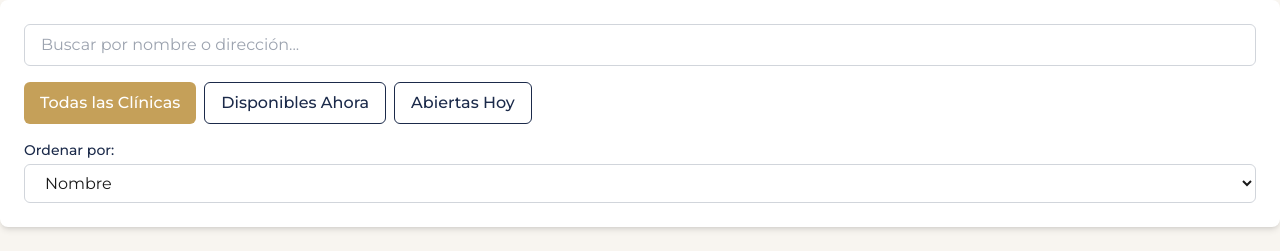
Test case: ClinicSearchFilter › Clear Filters Functionality › should show clear filters button when filter is not "all"
Click the button "Disponibles Ahora" at (295, 103), box left=204, top=82, right=386, bottom=124
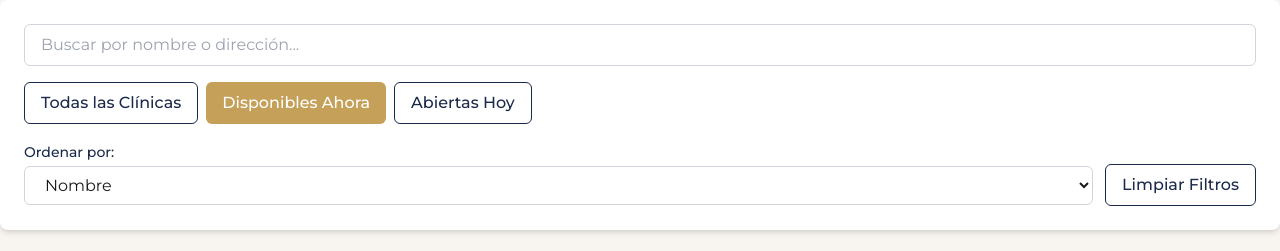
expect the button with aria-label "Limpiar todos los filtros" is shown: met, box left=1105, top=164, right=1256, bottom=206
